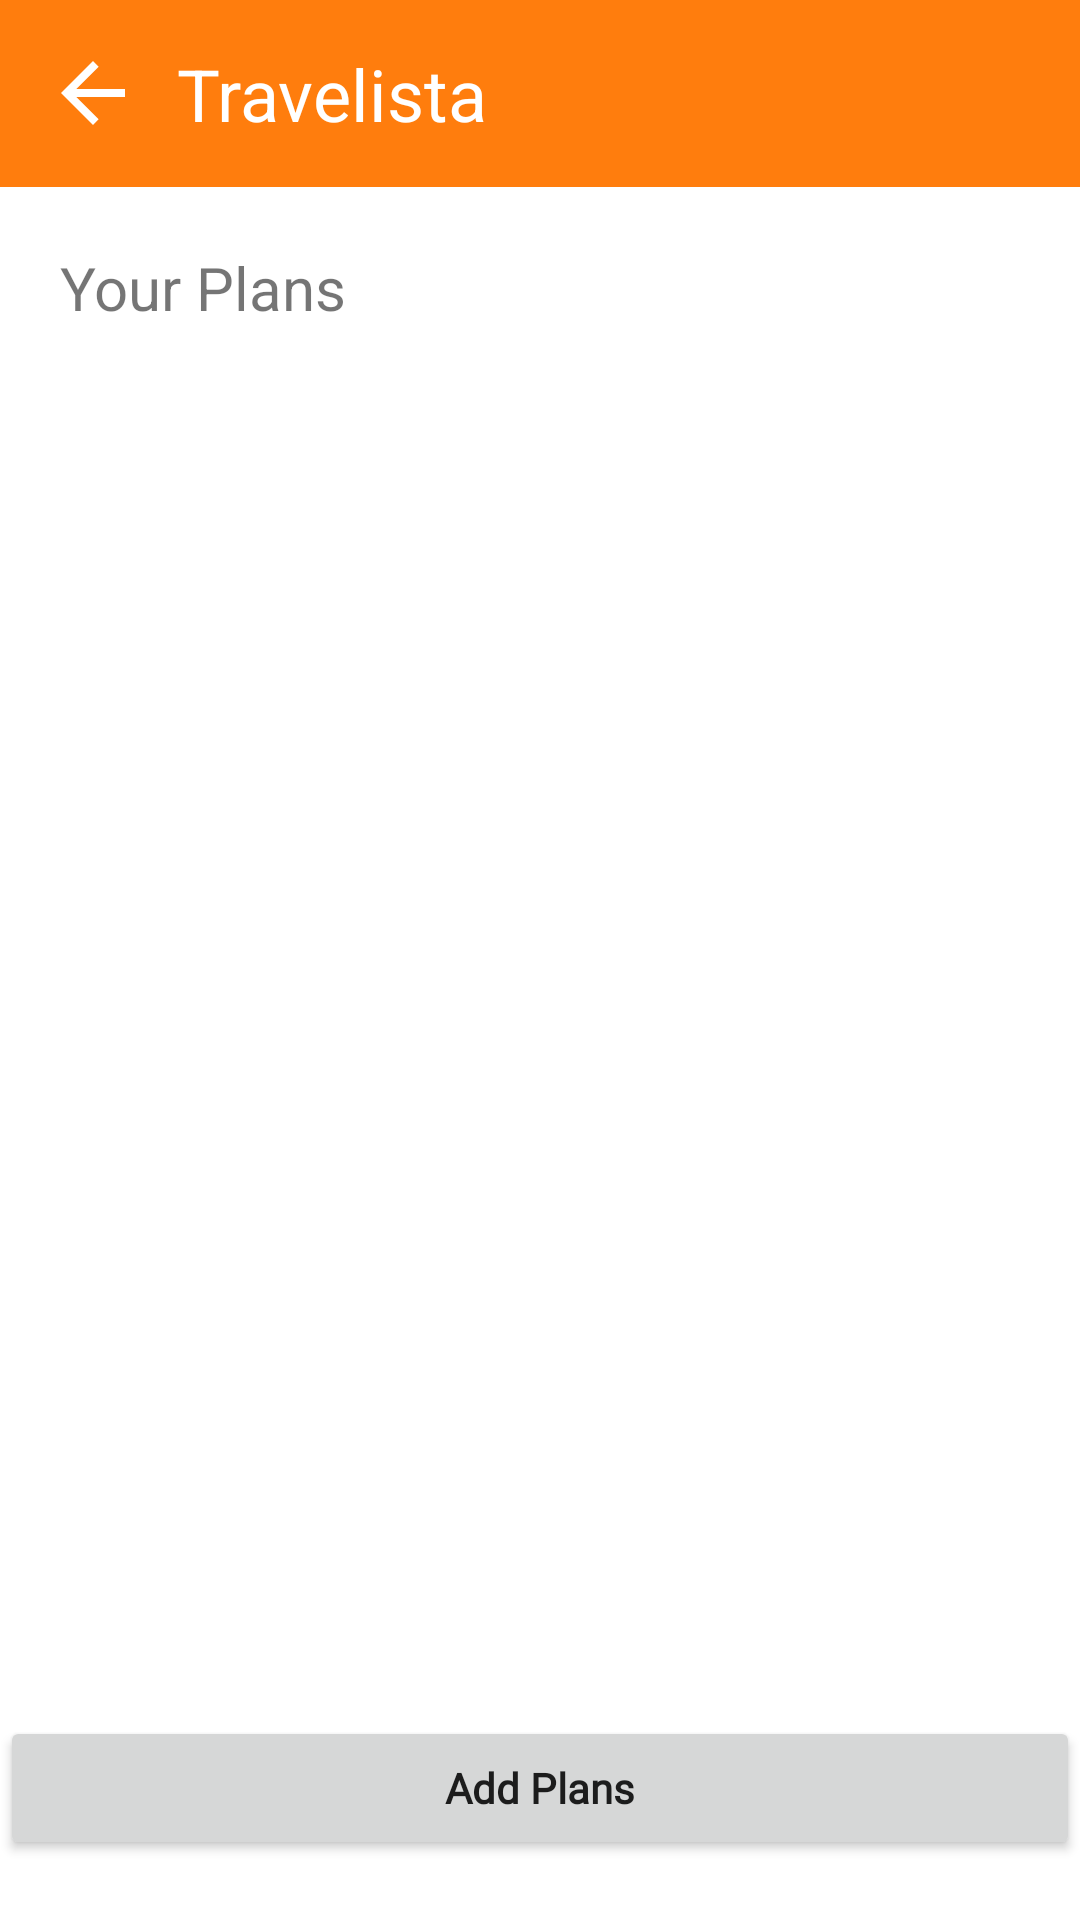

Where to tap for icons on this 1080w x 1920h app screen, as [x,y]:
back: [93,93]
